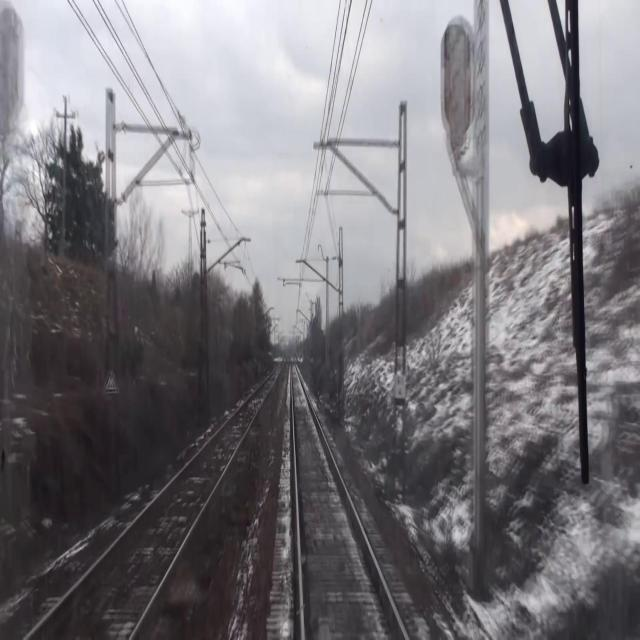rail-track: (30, 371, 277, 639), (293, 364, 404, 639)
